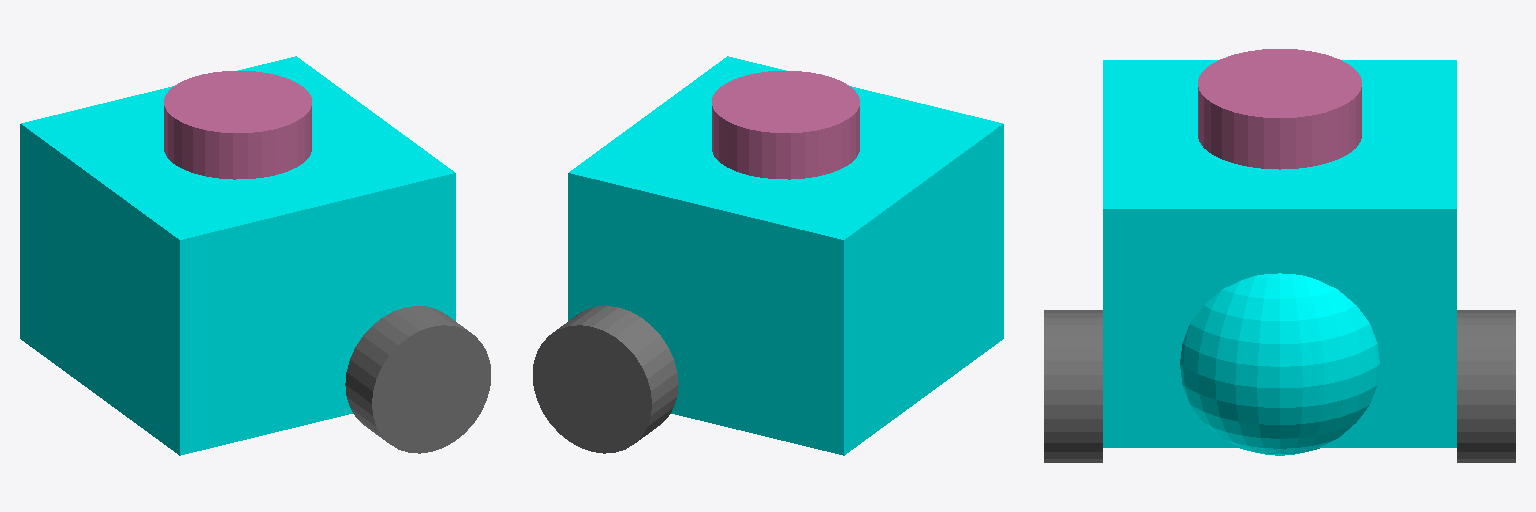
robot.urdf — sam_bot:
<?xml version="1.0" ?>
<!-- =================================================================================== -->
<!-- |    This document was autogenerated by xacro from socks_bot.urdf                 | -->
<!-- |    EDITING THIS FILE BY HAND IS NOT RECOMMENDED                                 | -->
<!-- =================================================================================== -->
<robot name="sam_bot">
  <!-- Robot Base -->
  <link name="base_link">
    <visual>
      <geometry>
        <box size="0.15 0.15 0.112"/>
      </geometry>
      <material name="Cyan">
        <color rgba="0 1.0 1.0 1.0"/>
      </material>
    </visual>
    <collision>
      <geometry>
        <box size="0.15 0.15 0.112"/>
      </geometry>
    </collision>
    <inertial>
      <origin rpy="1.5707963267948966 0 1.5707963267948966" xyz="0 0 0"/>
      <mass value="15"/>
      <inertia ixx="0.02948625" ixy="0.0" ixz="0.0" iyy="0.040625" iyz="0.0" izz="0.013861250000000002"/>
    </inertial>
  </link>
  <!-- Robot Footprint -->
  <link name="base_footprint">
    <inertial>
      <origin rpy="1.5707963267948966 0 1.5707963267948966" xyz="0 0 0.0"/>
      <mass value="0"/>
      <inertia ixx="0.0" ixy="0.0" ixz="0.0" iyy="0.0" iyz="0.0" izz="0.0"/>
    </inertial>
  </link>
  <joint name="base_joint" type="fixed">
    <parent link="base_link"/>
    <child link="base_footprint"/>
    <origin rpy="0 0 0" xyz="0.0 0.0 0.0"/>
  </joint>
  <link name="drivewhl_l_link">
    <visual>
      <origin rpy="1.5707963267948966 0 0" xyz="0 0 0"/>
      <geometry>
        <cylinder length="0.025" radius="0.0325"/>
      </geometry>
      <material name="Gray">
        <color rgba="0.5 0.5 0.5 1.0"/>
      </material>
    </visual>
    <collision>
      <origin rpy="1.5707963267948966 0 0" xyz="0 0 0"/>
      <geometry>
        <cylinder length="0.025" radius="0.0325"/>
      </geometry>
    </collision>
    <inertial>
      <origin rpy="1.5707963267948966 0 0" xyz="0 0 0"/>
      <mass value="0.5"/>
      <inertia ixx="0.00016616666666666662" ixy="0" ixz="0" iyy="0.00016616666666666662" iyz="0" izz="0.00032399999999999996"/>
    </inertial>
  </link>
  <joint name="drivewhl_l_joint" type="continuous">
    <parent link="base_link"/>
    <child link="drivewhl_l_link"/>
    <origin rpy="0 0 0" xyz="0.0475 0.0875 -0.04"/>
    <axis xyz="0 1 0"/>
  </joint>
  <link name="drivewhl_r_link">
    <visual>
      <origin rpy="1.5707963267948966 0 0" xyz="0 0 0"/>
      <geometry>
        <cylinder length="0.025" radius="0.0325"/>
      </geometry>
      <material name="Gray">
        <color rgba="0.5 0.5 0.5 1.0"/>
      </material>
    </visual>
    <collision>
      <origin rpy="1.5707963267948966 0 0" xyz="0 0 0"/>
      <geometry>
        <cylinder length="0.025" radius="0.0325"/>
      </geometry>
    </collision>
    <inertial>
      <origin rpy="1.5707963267948966 0 0" xyz="0 0 0"/>
      <mass value="0.5"/>
      <inertia ixx="0.00016616666666666662" ixy="0" ixz="0" iyy="0.00016616666666666662" iyz="0" izz="0.00032399999999999996"/>
    </inertial>
  </link>
  <joint name="drivewhl_r_joint" type="continuous">
    <parent link="base_link"/>
    <child link="drivewhl_r_link"/>
    <origin rpy="0 0 0" xyz="0.0475 -0.0875 -0.04"/>
    <axis xyz="0 1 0"/>
  </joint>

  <link name="back_caster">
    <visual>
      <geometry>
        <sphere radius="0.0495"/>
      </geometry>
      <material name="Cyan">
        <color rgba="0 1.0 1.0 1.0"/>
      </material>
    </visual>
    <collision>
      <origin rpy="0 0 0" xyz="0 0 0"/>
      <geometry>
        <sphere radius="0.0495"/>
      </geometry>
    </collision>
    <inertial>
      <mass value="0.5"/>
      <inertia ixx="0.00049005" ixy="0.0" ixz="0.0" iyy="0.00049005" iyz="0.0" izz="0.00049005"/>
    </inertial>
  </link>
  <joint name="caster_joint" type="fixed">
    <parent link="base_link"/>
    <child link="back_caster"/>
    <origin rpy="0 0 0" xyz="0.05 0.0 -0.0165"/>
  </joint>
  <link name="imu_link">
    <visual>
      <geometry>
        <box size="0.015 0.02 0.008"/>
      </geometry>
    </visual>
    <collision>
      <geometry>
        <box size="0.015 0.02 0.008"/>
      </geometry>
    </collision>
    <inertial>
      <origin rpy="1.5707963267948966 0 1.5707963267948966" xyz="0 0 0"/>
      <mass value="0.1"/>
      <inertia ixx="0.0001666666666666667" ixy="0.0" ixz="0.0" iyy="0.0001666666666666667" iyz="0.0" izz="0.0001666666666666667"/>
    </inertial>
  </link>
  <joint name="imu_joint" type="fixed">
    <parent link="base_link"/>
    <child link="imu_link"/>
    <origin xyz="-0.06149999999999999 0 0.0205"/>
  </joint>
  <link name="lidar_link">
    <inertial>
      <origin rpy="0 0 0" xyz="0 0 0"/>
      <mass value="0.125"/>
      <inertia ixx="0.001" ixy="0" ixz="0" iyy="0.001" iyz="0" izz="0.001"/>
    </inertial>
    <collision>
      <origin rpy="0 0 0" xyz="0 0 0"/>
      <geometry>
        <cylinder length="0.024" radius="0.035"/>
      </geometry>
    </collision>
    <visual>
      <origin rpy="0 0 0" xyz="0 0 0"/>
      <geometry>
        <cylinder length="0.024" radius="0.035"/>
      </geometry>
    </visual>
  </link>
  <joint name="lidar_joint" type="fixed">
    <parent link="base_link"/>
    <child link="lidar_link"/>
    <origin rpy="3.141592653589793 0 3.141592653589793" xyz="0 0 0.068"/>
  </joint>
</robot>

--- What the picture shows (computed from the rendered views, not written in the file) ---
Views: 3 orthographic renders of the robot side by side, from view 1: azimuth 30°, elevation 25°; view 2: azimuth 150°, elevation 25°; view 3: azimuth 270°, elevation 25°.
Robot: sam_bot — 7 links, 6 joints (2 continuous, 4 fixed); root link base_link; default pose: every joint at zero.
Visible links, largest first — view 1: base_link, drivewhl_r_link, lidar_link; view 2: base_link, drivewhl_l_link, lidar_link; view 3: base_link, back_caster, lidar_link, drivewhl_l_link, drivewhl_r_link.
Boxes of the visible links, x1,y1,x2,y2 form: base_link: (20,56,455,455); drivewhl_r_link: (345,306,490,453); lidar_link: (164,71,311,179); base_link: (568,56,1003,455); drivewhl_l_link: (533,306,678,453); lidar_link: (712,71,859,179); base_link: (1103,60,1456,447); back_caster: (1180,273,1379,455); lidar_link: (1198,49,1361,169); drivewhl_l_link: (1457,310,1515,462); drivewhl_r_link: (1044,310,1102,462).
Size in the robot's own frame: 0.1745 by 0.2 by 0.1525 metres.
Geometry: primitives only (box / cylinder / sphere), no mesh files.
